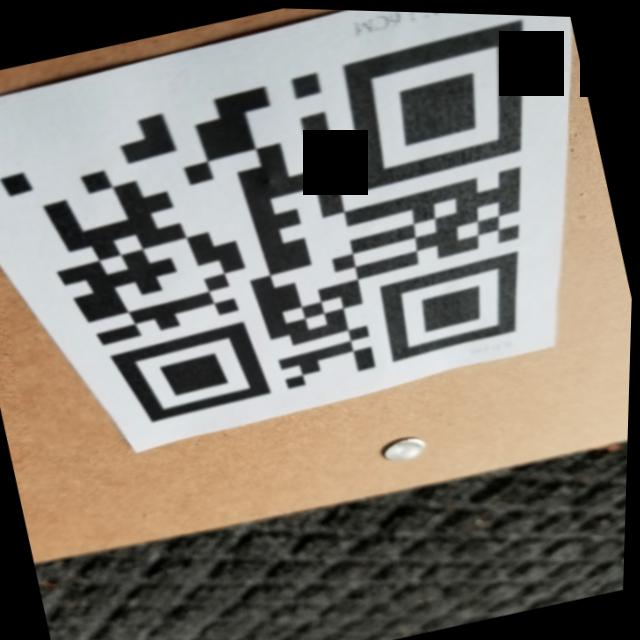QR_CODE: (0, 0, 619, 469)
